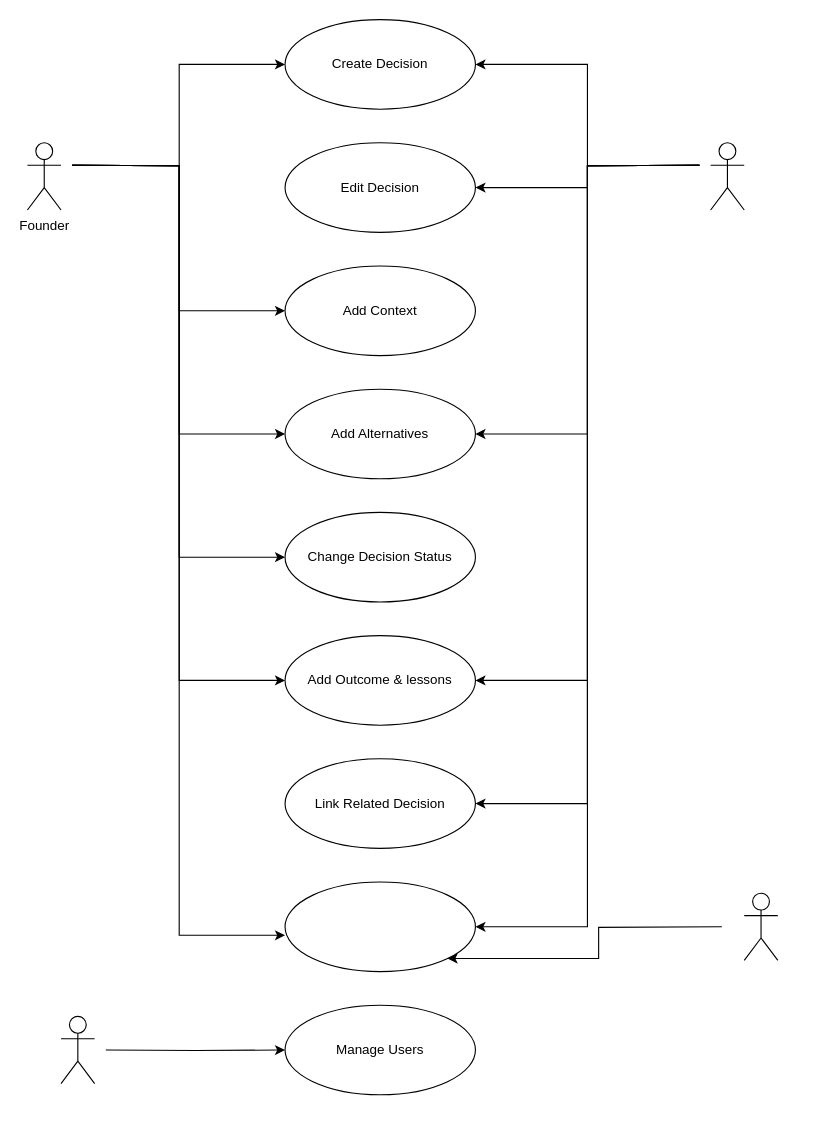
The diagram is 823 pixels wide and 1127 high, and some of its shapes have lost their labels. The centre of each missing label's shape, as x and y in pixels:
Admin: point 77,1049
Search / View Decision: point 379,926
Team Member: point 760,926
Tech Lead/ Project Manager: point 727,176
